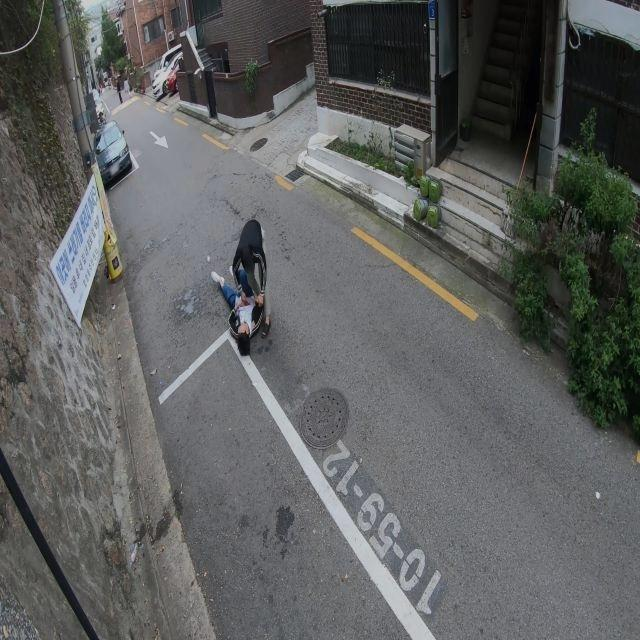fight: (210, 217, 270, 356)
